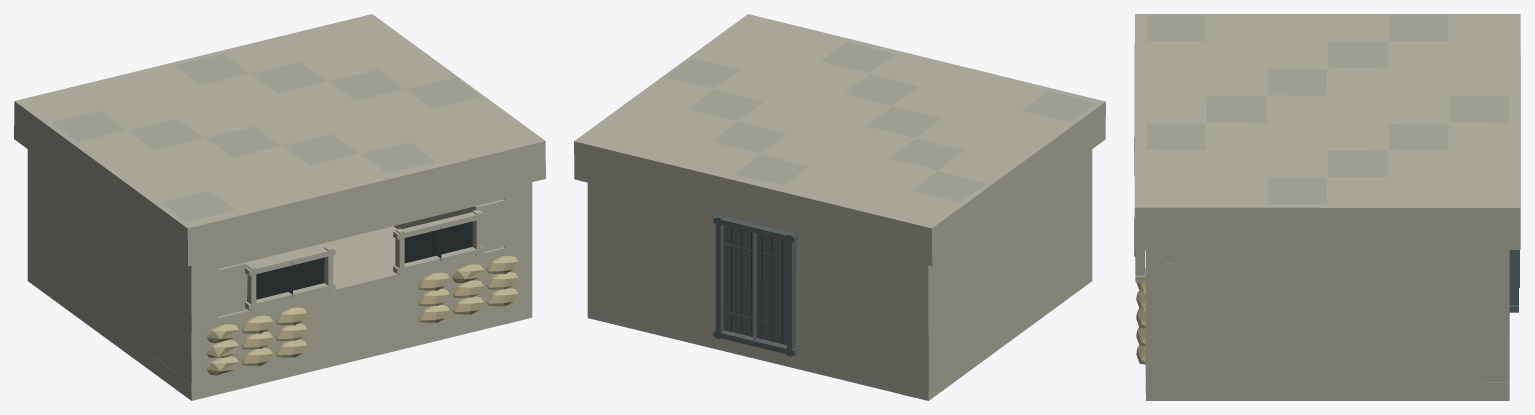
Rendered from bunker_low.glb.
3 views of the same model, side by side, from view 1: azimuth 30°, elevation 25°; view 2: azimuth 150°, elevation 25°; view 3: azimuth 270°, elevation 25° (orthographic). The views are drawn at different scales.
Parts seen in each view (by area): view 1: bunker.001; view 2: bunker.001; view 3: bunker.001.
Part boxes in pixels (x1,y1,x2,y2): bunker.001: (14,14,545,400); bunker.001: (574,14,1105,400); bunker.001: (1134,14,1520,400).
Size of the model in its own units: 6.28 by 3.01 by 5.28.
